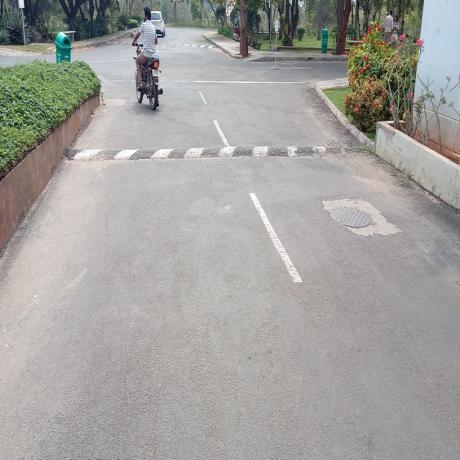Speed Bump: (65, 141, 374, 159)
